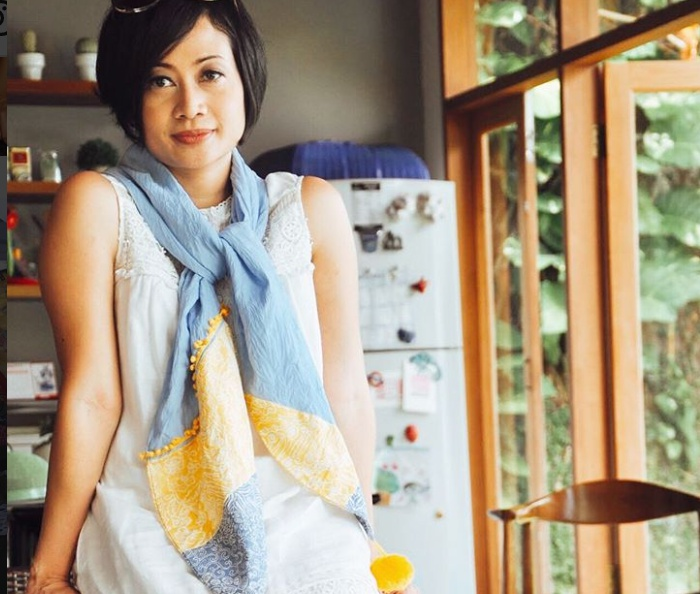mouth: (167, 127, 218, 146)
nose: (172, 104, 206, 119)
